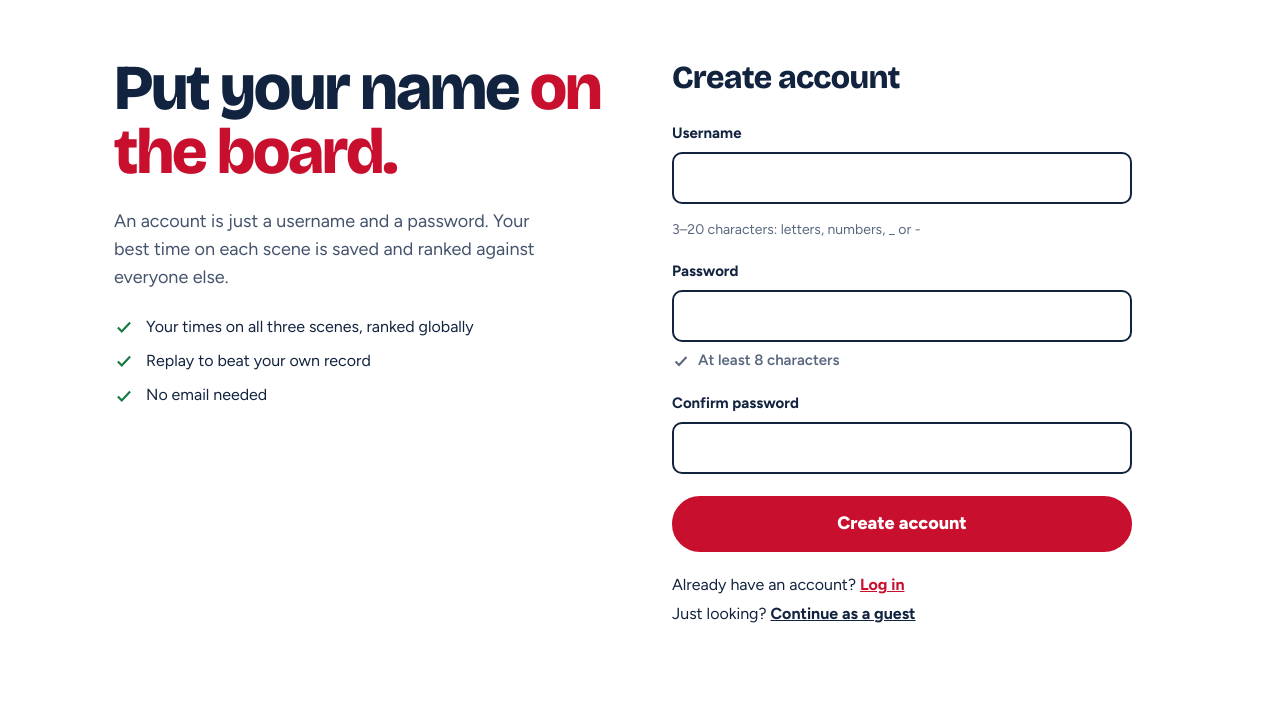
<Register> › shows the server's complaint when the name was taken in the meantime
Step 1. Type "pompom" into the field labelled "Username" → (902, 178), box [672,152,1132,204]
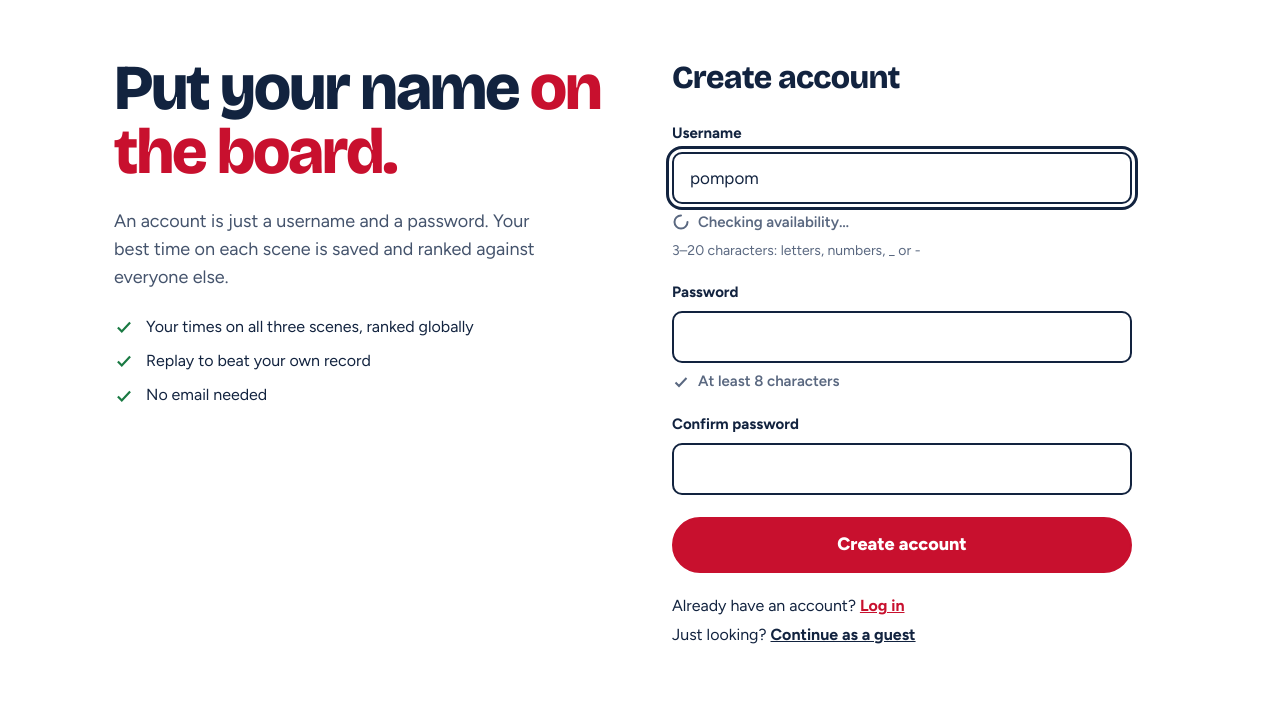
Step 2. Type "longenough" into the password field labelled "Password" → (902, 337), box [672,311,1132,363]
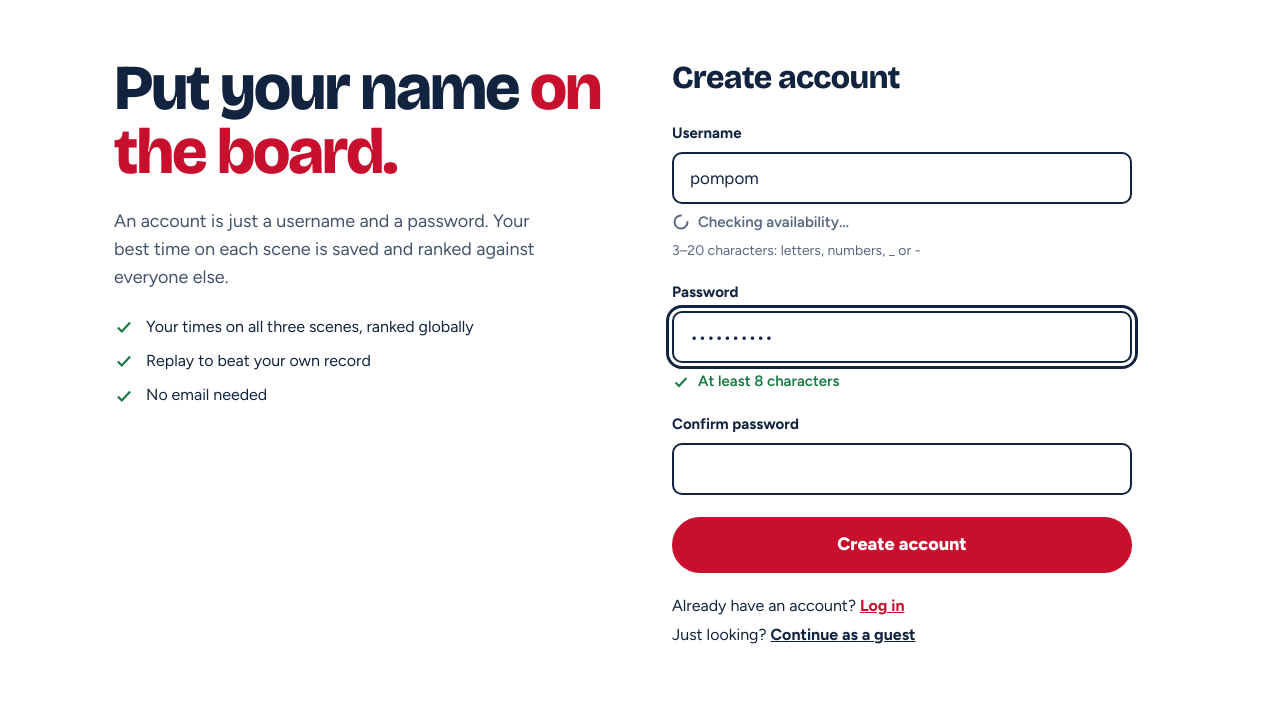
Step 3. Type "longenough" into the password field labelled "Confirm password" → (902, 469), box [672,443,1132,495]
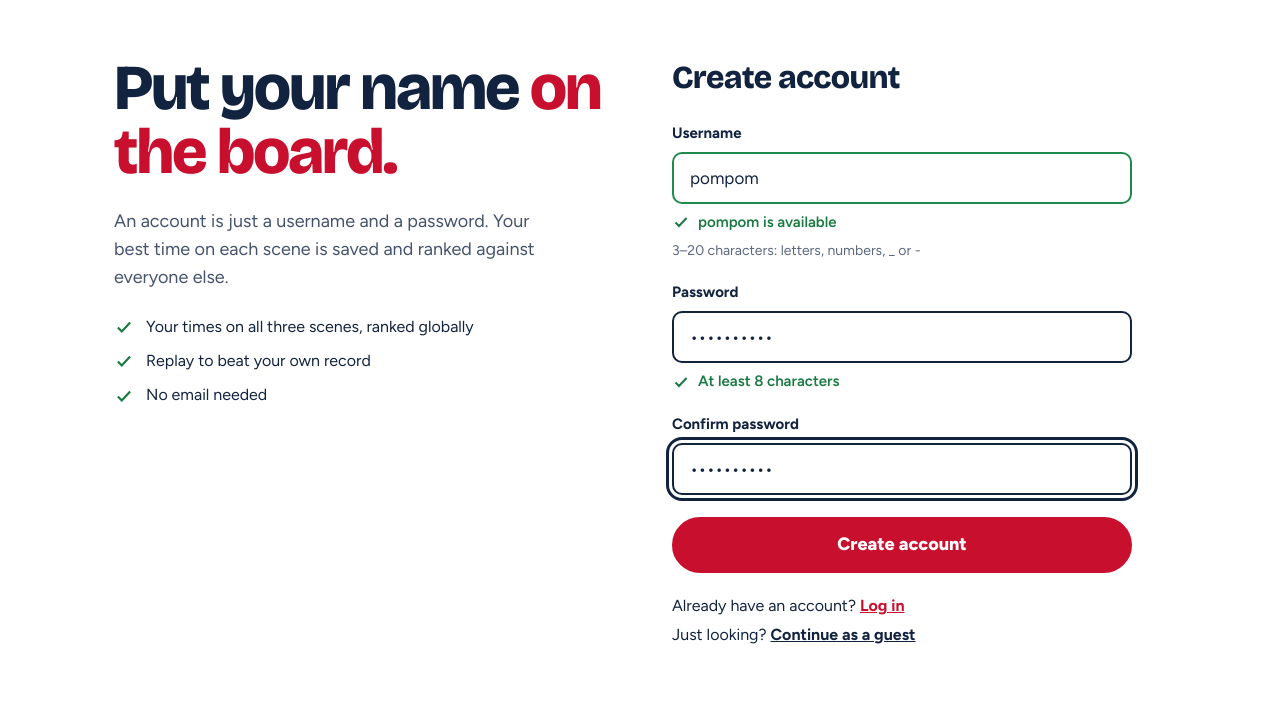
Now the text "pompom is available" is shown, box [698,212,836,233]
Step 4. Click the button "Create account" → (902, 545), box [672,517,1132,573]
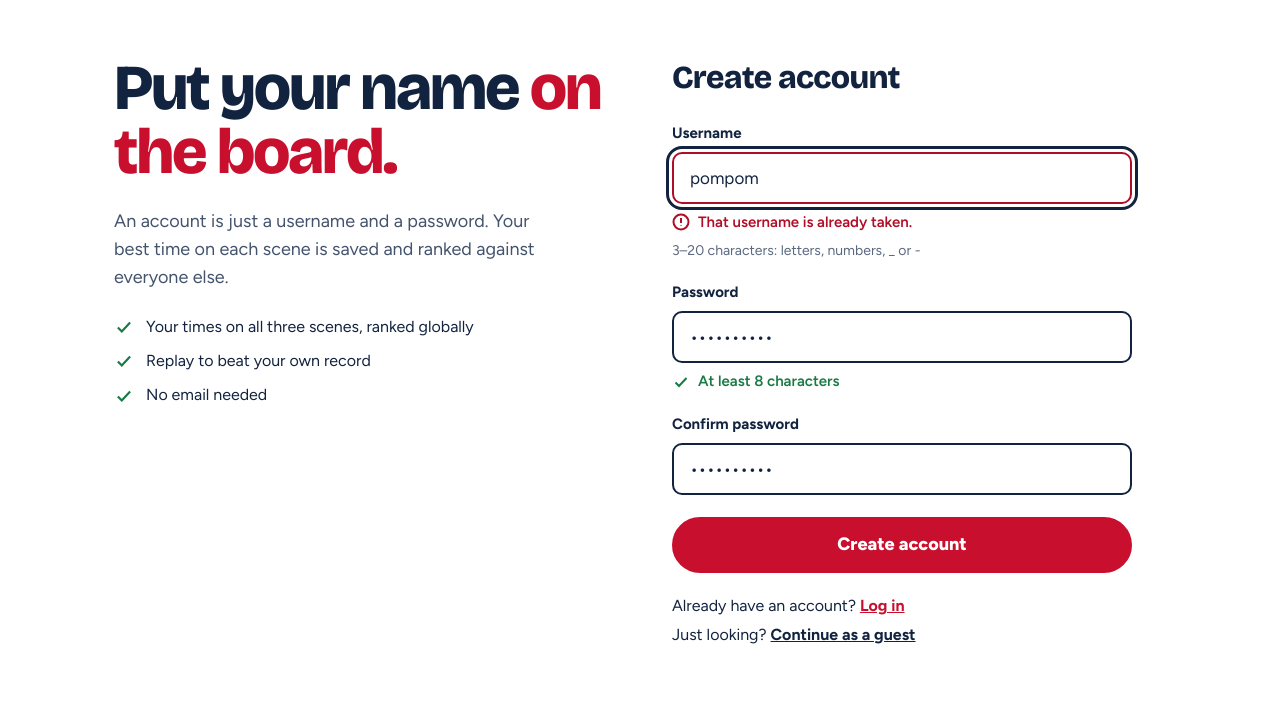
Now the text "That username is already taken." is shown, box [698,212,912,233]
